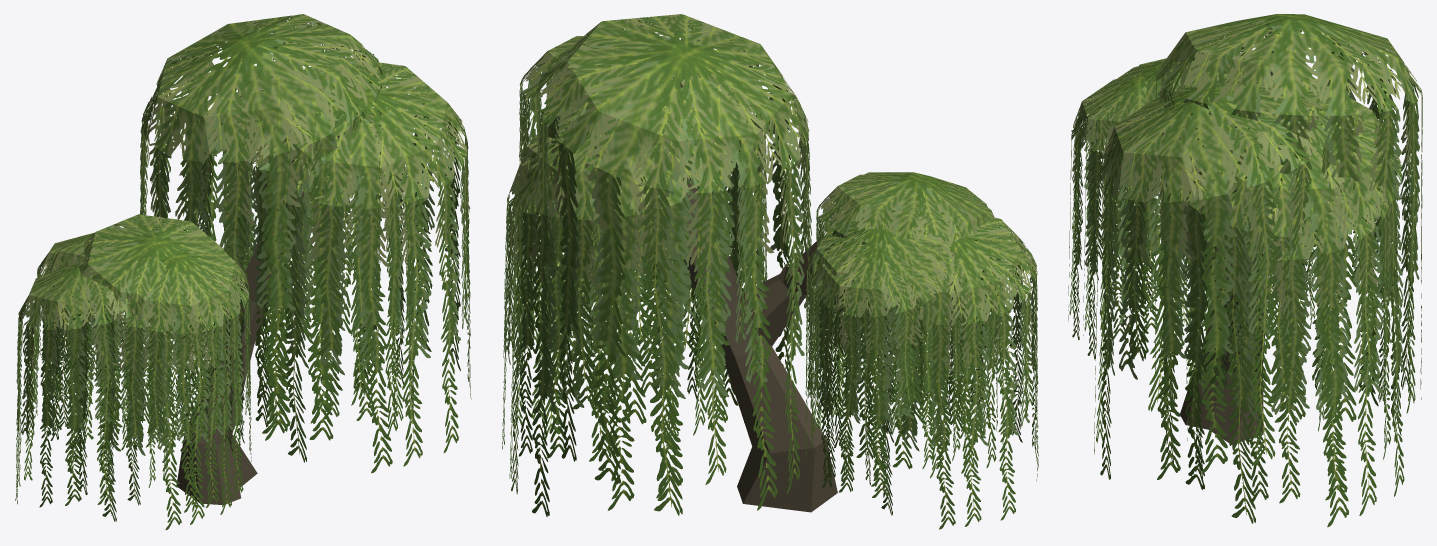
Rendered from model_Wierzba.fbx.
3 renders of one model, left to right at view 1: azimuth 30°, elevation 25°; view 2: azimuth 150°, elevation 25°; view 3: azimuth 270°, elevation 25°, orthographic. The views are drawn at different scales.
Parts seen in each view (by area): view 1: Circle; view 2: Circle; view 3: Circle.
Boxes of the visible parts, x1,y1,x2,y2 form: Circle: [15, 14, 471, 529]; Circle: [502, 14, 1038, 529]; Circle: [1068, 14, 1422, 527].
Bounding box in the file's own units: 1199 × 1650 × 1839.
